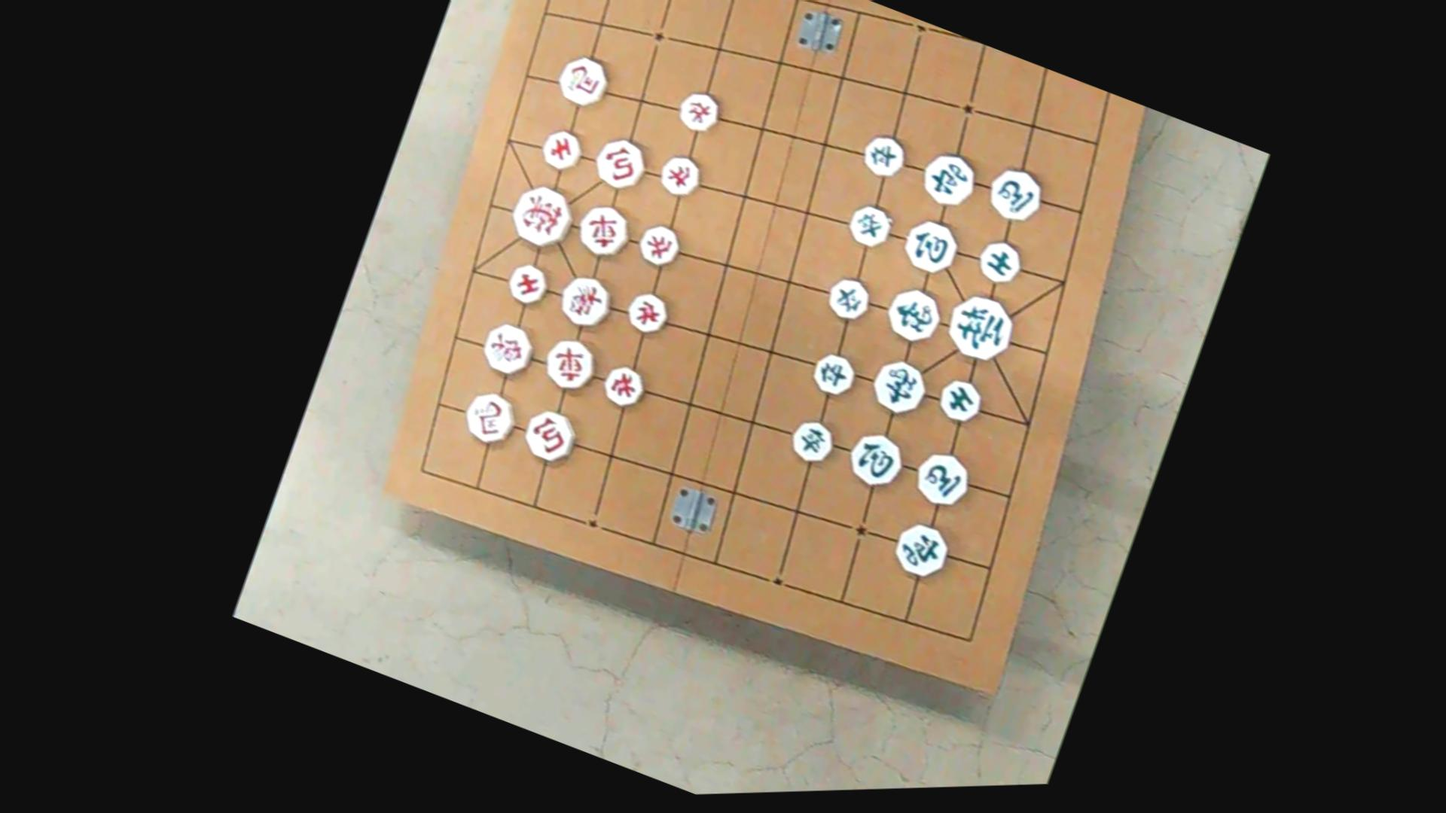cha_green: (913, 145, 983, 212), (885, 516, 955, 583)
cha_red: (570, 198, 637, 263), (535, 332, 603, 396)
jol_green: (783, 415, 839, 467), (855, 129, 911, 181), (841, 199, 896, 251), (806, 348, 861, 399), (819, 273, 874, 324)
jol_red: (672, 85, 725, 136), (596, 361, 649, 412), (652, 150, 705, 200), (621, 287, 673, 337), (633, 221, 685, 270)
ma_green: (979, 161, 1049, 227), (906, 446, 976, 511)
ma_red: (455, 385, 523, 449), (551, 49, 615, 111)
po_green: (895, 212, 965, 279), (840, 426, 909, 493)
po_red: (587, 130, 653, 195), (517, 404, 582, 467)
sa_green: (971, 236, 1026, 288), (932, 375, 986, 426)
sa_red: (500, 257, 554, 309), (535, 124, 587, 175)
sang_green: (877, 281, 948, 349), (864, 353, 933, 420)
sang_red: (551, 269, 618, 333), (474, 317, 540, 381)
wang_green: (935, 286, 1022, 367)
wang_red: (502, 178, 581, 254)
